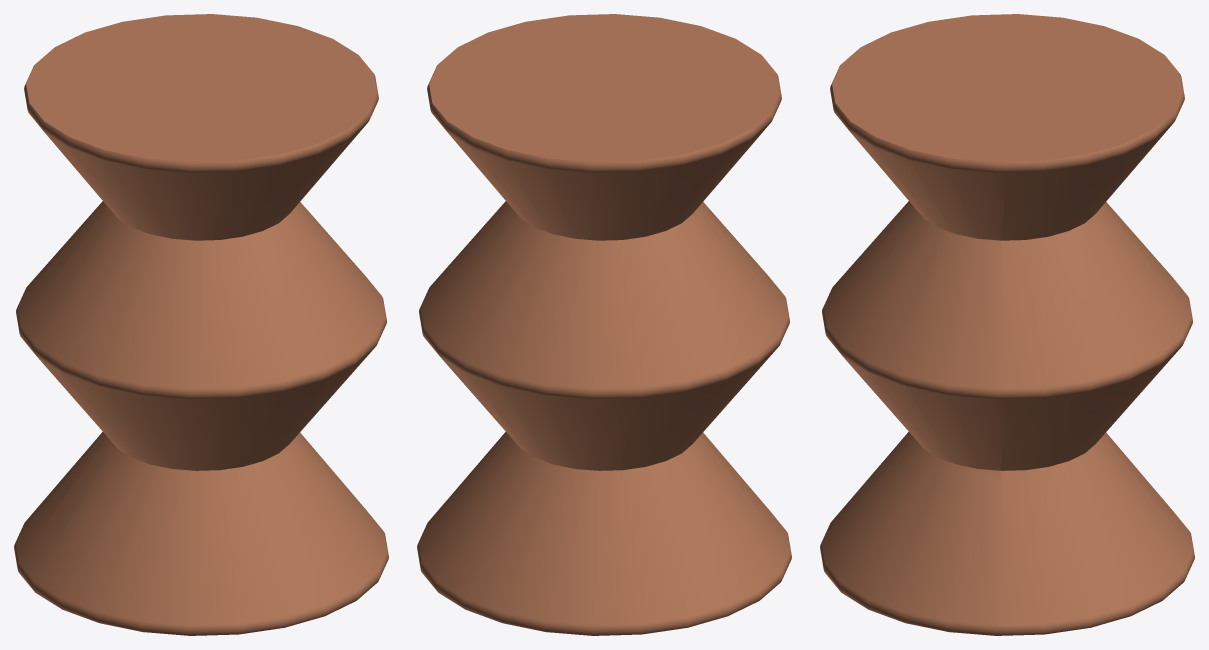
File: CGT_side_table_042.glb
3 renders of one model, left to right at view 1: azimuth 30°, elevation 25°; view 2: azimuth 150°, elevation 25°; view 3: azimuth 270°, elevation 25°, orthographic.
Parts seen in each view (by area): view 1: CGT_side_table_042; view 2: CGT_side_table_042; view 3: CGT_side_table_042.
Part boxes in pixels (x1,y1,x2,y2): CGT_side_table_042: [14, 14, 388, 635]; CGT_side_table_042: [417, 14, 791, 635]; CGT_side_table_042: [820, 14, 1194, 635].
Size of the model in its own units: 0.4124 by 0.5698 by 0.4124.
